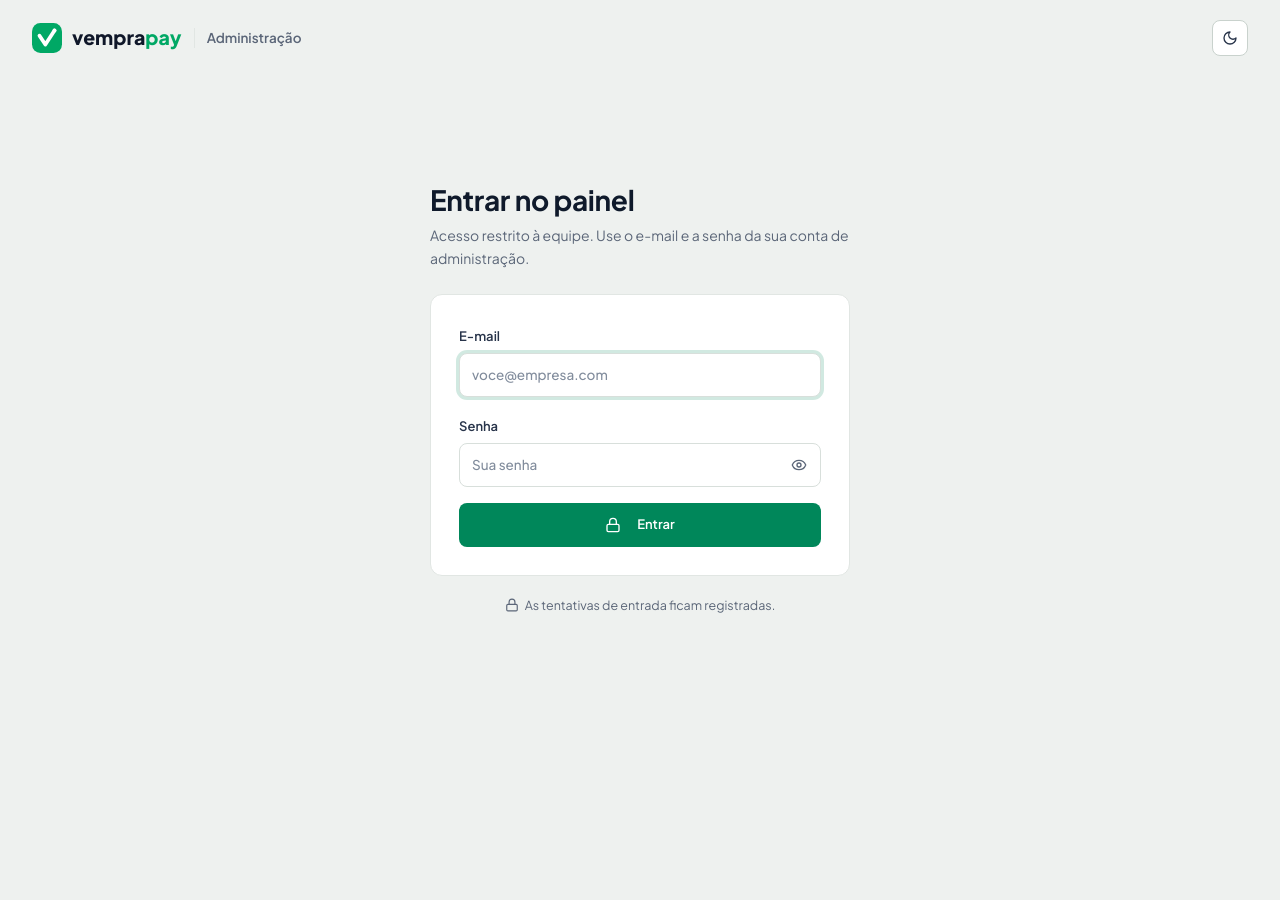
Test: Tela de login do admin › senha certa mas sessão não abre: não acusa a senha
Type "equipe@empresa.com" into the field labelled "E-mail". click: x=640, y=375
box: left=459, top=353, right=821, bottom=397
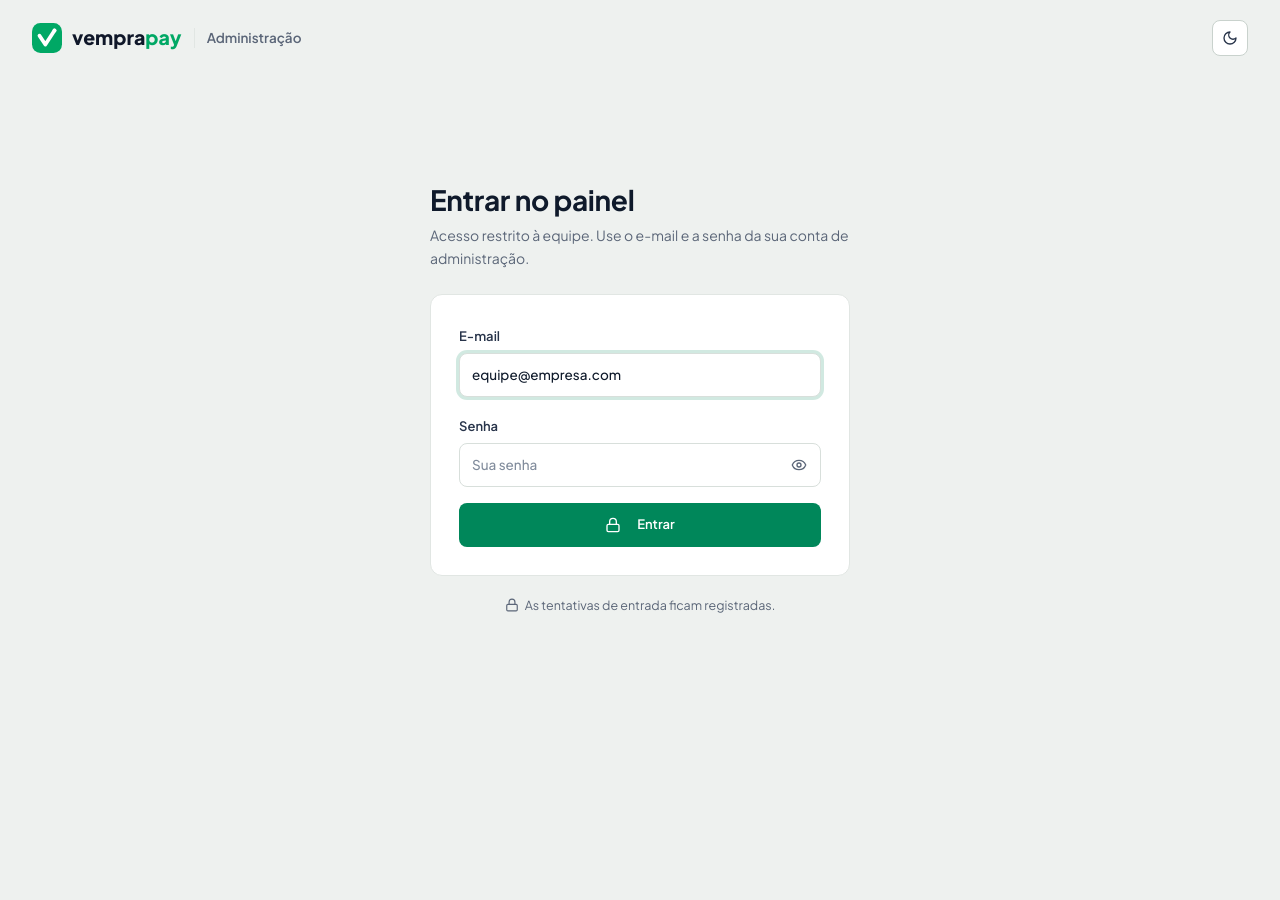
Type "segredo1" into the password field labelled "Senha". click: x=640, y=465
box: left=459, top=443, right=821, bottom=487
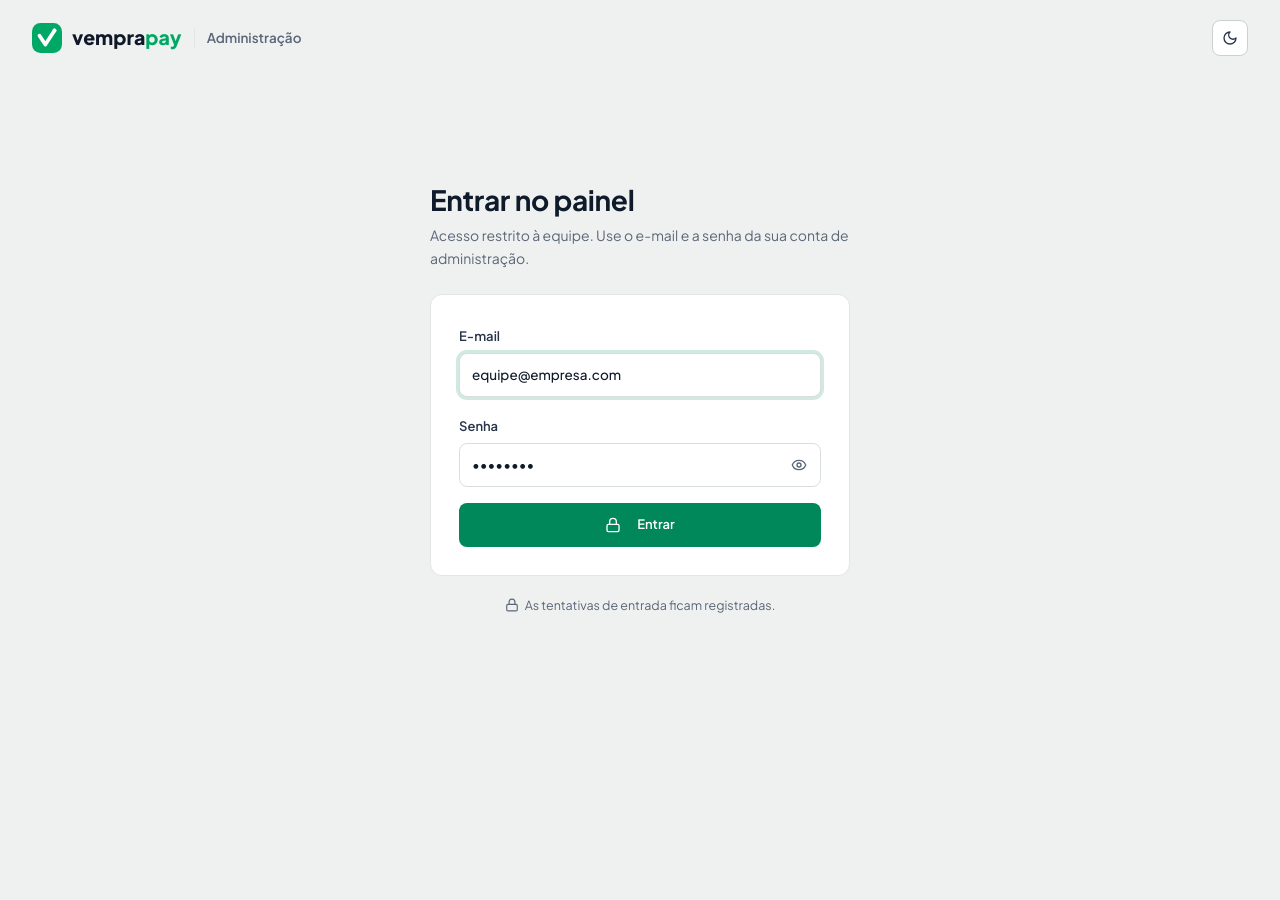
Click the button "Entrar". click: x=640, y=525
box: left=459, top=503, right=821, bottom=547
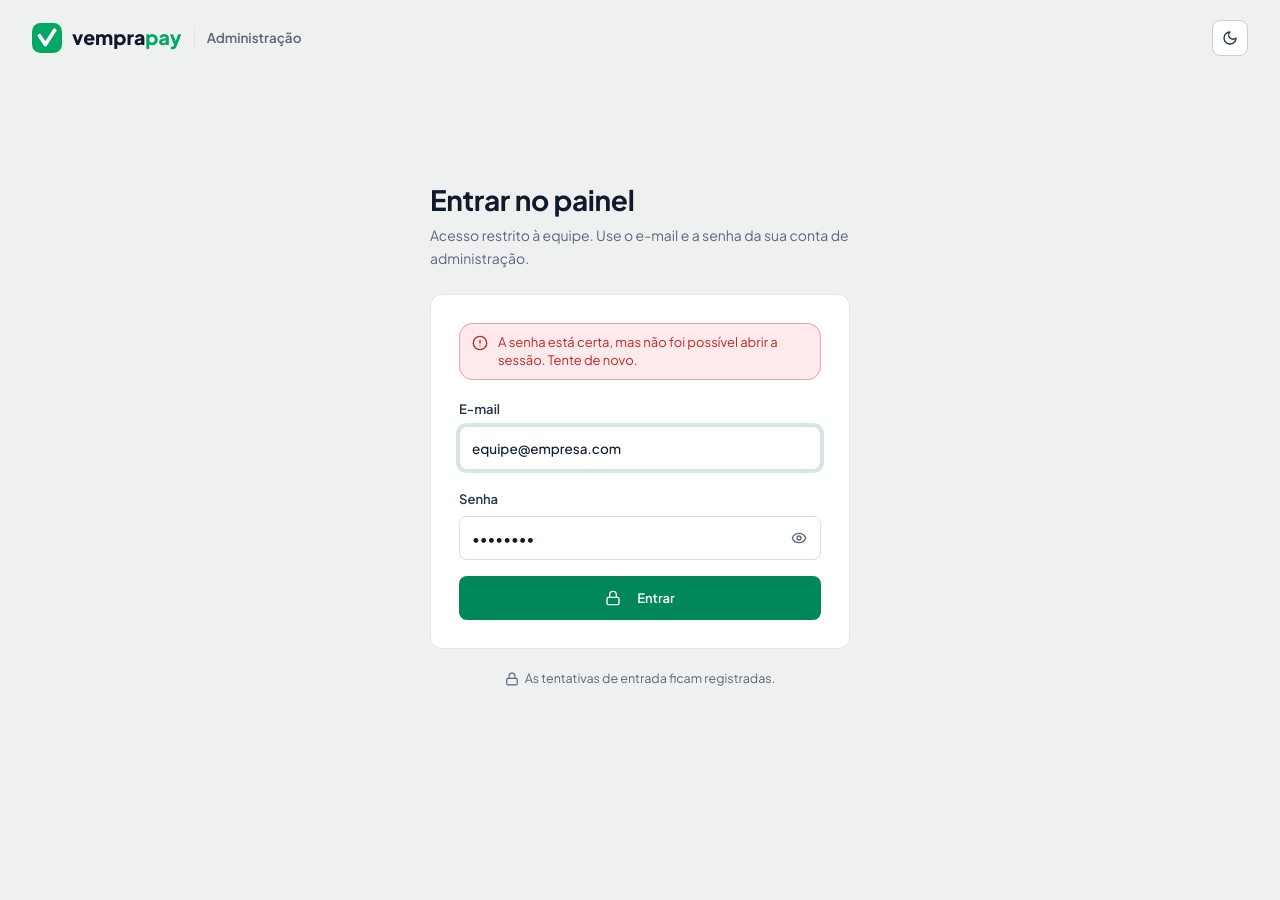
Check: the message shows "não foi possível abrir a sessão", box left=498, top=334, right=778, bottom=368
